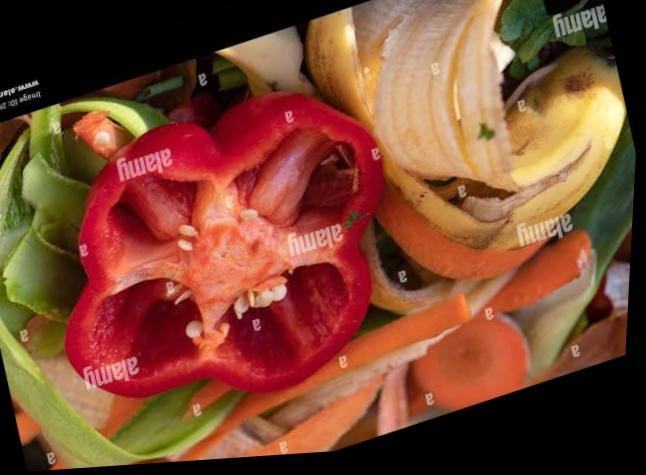organic: (0, 28, 396, 474), (305, 0, 632, 335), (0, 61, 195, 347), (408, 313, 527, 416)
